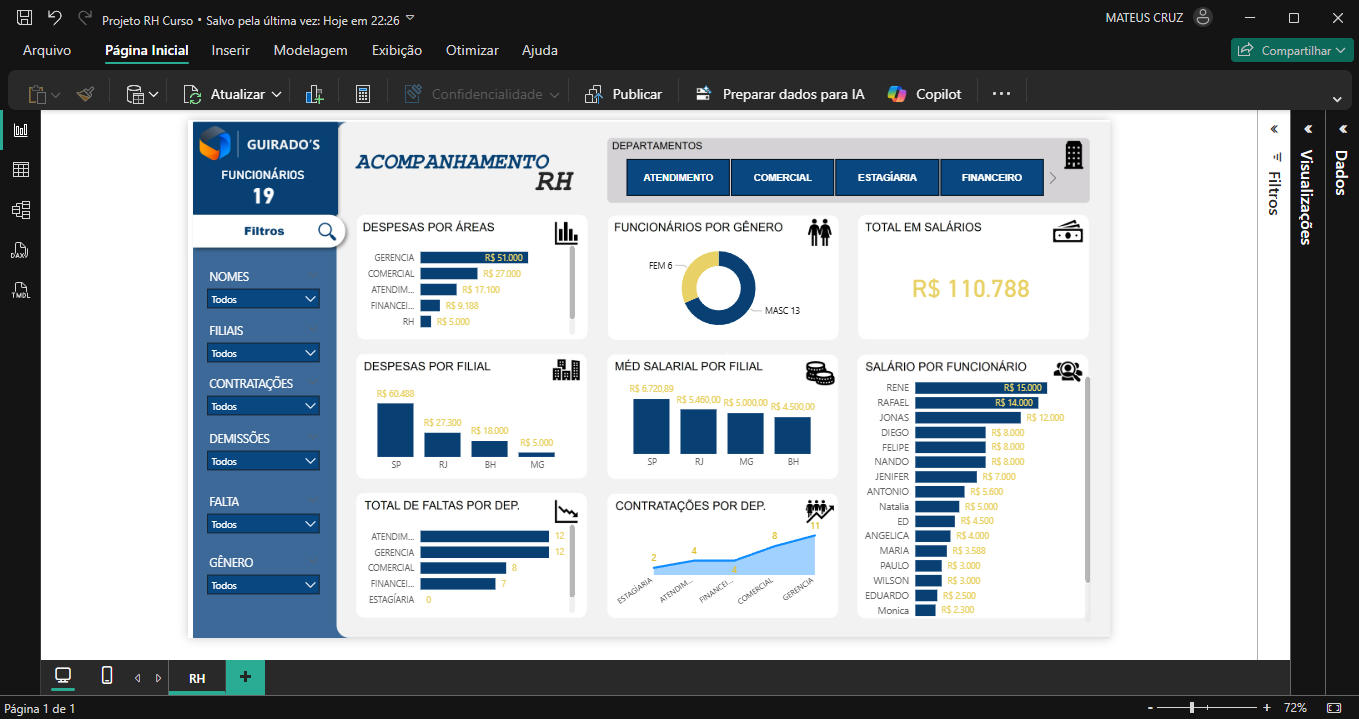

The page's visual inventory and layout, read from the dashboard file:
{"tool":"powerbi","page":{"name":"RH","canvas":[1280,720],"ordinal":0},"visuals":[{"type":"barChart","title":"DESPESAS POR ÁREAS","fields":{"Category":["FUNCIONARIOS.DEPARTAMENTO"],"Y":["Sum(FUNCIONARIOS.SALARIO)"]},"box":[231.8,160.6,310.6,142.4],"z":0},{"type":"donutChart","title":"FUNCIONÁRIOS POR GÊNERO","fields":{"Category":["FUNCIONARIOS.SEXO"],"Y":["CountNonNull(FUNCIONARIOS.SEXO)"]},"box":[582.6,162.1,310,142],"z":0,"group":"g1"},{"type":"columnChart","title":"DESPESAS POR FILIAL","fields":{"Y":["Sum(FUNCIONARIOS.SALARIO)"],"Category":["FUNCIONARIOS.FILIAL"]},"box":[231.8,355.3,310.6,142.4],"z":1000},{"type":"columnChart","title":"MÉD SALÁRIO POR FILIAL","fields":{"Y":["Avg(FUNCIONARIOS.SALARIO)"],"Category":["FUNCIONARIOS.FILIAL"]},"box":[587.9,351.5,310.6,142.4],"z":2000},{"type":"barChart","title":"TOTAL DE FALTAS POR DEP.","fields":{"Category":["FUNCIONARIOS.DEPARTAMENTO"],"Y":["Sum(FUNCIONARIOS.QTDE FALTA)"]},"box":[231.8,548.5,310.6,140.9],"z":3000},{"type":"areaChart","title":"CONTRATAÇÕES POR DEP.","fields":{"Category":["FUNCIONARIOS.DEPARTAMENTO"],"Y":["Sum(FUNCIONARIOS.CONTRATACÕES FEITAS)"]},"box":[587.9,542.4,310.6,140.9],"z":4000},{"type":"barChart","title":"SALÁRIO POR FUNCIONÁRIO","fields":{"Category":["FUNCIONARIOS.NOME"],"Y":["Sum(FUNCIONARIOS.SALARIO)"]},"box":[929,342.5,329.6,359.6],"z":5000},{"type":"slicer","fields":{"Values":["FUNCIONARIOS.DEPARTAMENTO"]},"box":[583.3,47,628.8,65.2],"z":6000},{"type":"slicer","fields":{"Values":["FUNCIONARIOS.NOME"]},"box":[16.7,201.5,175.8,60.6],"z":7000},{"type":"slicer","fields":{"Values":["FUNCIONARIOS.FILIAL"]},"box":[16.7,276.1,175.8,60.6],"z":8000},{"type":"slicer","fields":{"Values":["FUNCIONARIOS.CONTRATACÕES FEITAS"]},"box":[16.7,350.6,175.8,62.1],"z":9000},{"type":"slicer","fields":{"Values":["FUNCIONARIOS.DEMISSOES"]},"box":[16.7,426.7,175.8,72.7],"z":10000},{"type":"slicer","fields":{"Values":["FUNCIONARIOS.QTDE FALTA"]},"box":[16.7,513.3,175.8,71.2],"z":11000},{"type":"slicer","fields":{"Values":["FUNCIONARIOS.SEXO"]},"box":[16.7,598.5,175.8,71.2],"z":12000},{"type":"group","id":"g1","title":"Grupo 2","box":[582.6,162.1,309.1,142.4],"z":13000},{"type":"card","title":"TOTAL EM SALÁRIOS","fields":{"Values":["FUNCIONARIOS.SOMA DE SALARIO"]},"box":[931.8,160.6,310.6,140.9],"z":14000},{"type":"card","title":"FUNCIONÁRIOS","fields":{"Values":["CountNonNull(FUNCIONARIOS.NOME)"]},"box":[39.4,65.2,130.3,56.1],"z":15000}]}

Visuals, with their boxes on the page's 1280x720 design canvas (x1, y1, x2, y2). These are canvas units, not pixel positions in the 1359x719 screenshot, which may show the page scaled, cropped or inside an application window:
"DESPESAS POR ÁREAS" barChart: select_region(232, 161, 542, 303)
"FUNCIONÁRIOS POR GÊNERO" donutChart: select_region(583, 162, 893, 304)
"DESPESAS POR FILIAL" columnChart: select_region(232, 355, 542, 498)
"MÉD SALÁRIO POR FILIAL" columnChart: select_region(588, 352, 898, 494)
"TOTAL DE FALTAS POR DEP." barChart: select_region(232, 548, 542, 689)
"CONTRATAÇÕES POR DEP." areaChart: select_region(588, 542, 898, 683)
"SALÁRIO POR FUNCIONÁRIO" barChart: select_region(929, 342, 1259, 702)
slicer - FUNCIONARIOS.DEPARTAMENTO: select_region(583, 47, 1212, 112)
slicer - FUNCIONARIOS.NOME: select_region(17, 202, 192, 262)
slicer - FUNCIONARIOS.FILIAL: select_region(17, 276, 192, 337)
slicer - FUNCIONARIOS.CONTRATACÕES FEITAS: select_region(17, 351, 192, 413)
slicer - FUNCIONARIOS.DEMISSOES: select_region(17, 427, 192, 499)
slicer - FUNCIONARIOS.QTDE FALTA: select_region(17, 513, 192, 584)
slicer - FUNCIONARIOS.SEXO: select_region(17, 598, 192, 670)
"Grupo 2" group: select_region(583, 162, 892, 304)
"TOTAL EM SALÁRIOS" card: select_region(932, 161, 1242, 302)
"FUNCIONÁRIOS" card: select_region(39, 65, 170, 121)
